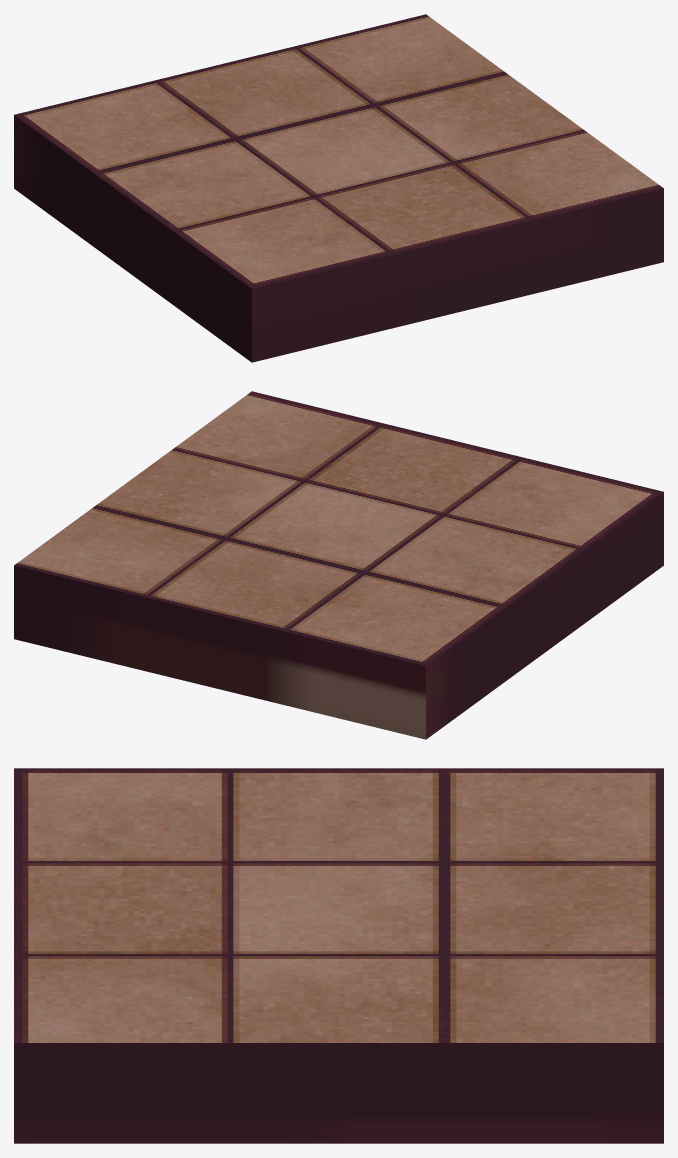
The model's file is FloorTile.fbx.
3 renders of one model, top to bottom at view 1: azimuth 30°, elevation 25°; view 2: azimuth 150°, elevation 25°; view 3: azimuth 270°, elevation 25°, orthographic. The views are drawn at different scales.
Parts seen in each view (by area): view 1: Cube.009; view 2: Cube.009; view 3: Cube.009.
Part boxes in pixels (x1,y1,x2,y2): Cube.009: (14,14,663,362); Cube.009: (14,391,663,739); Cube.009: (14,768,663,1143).
Bounding box in the file's own units: 400 × 68.42 × 400.
